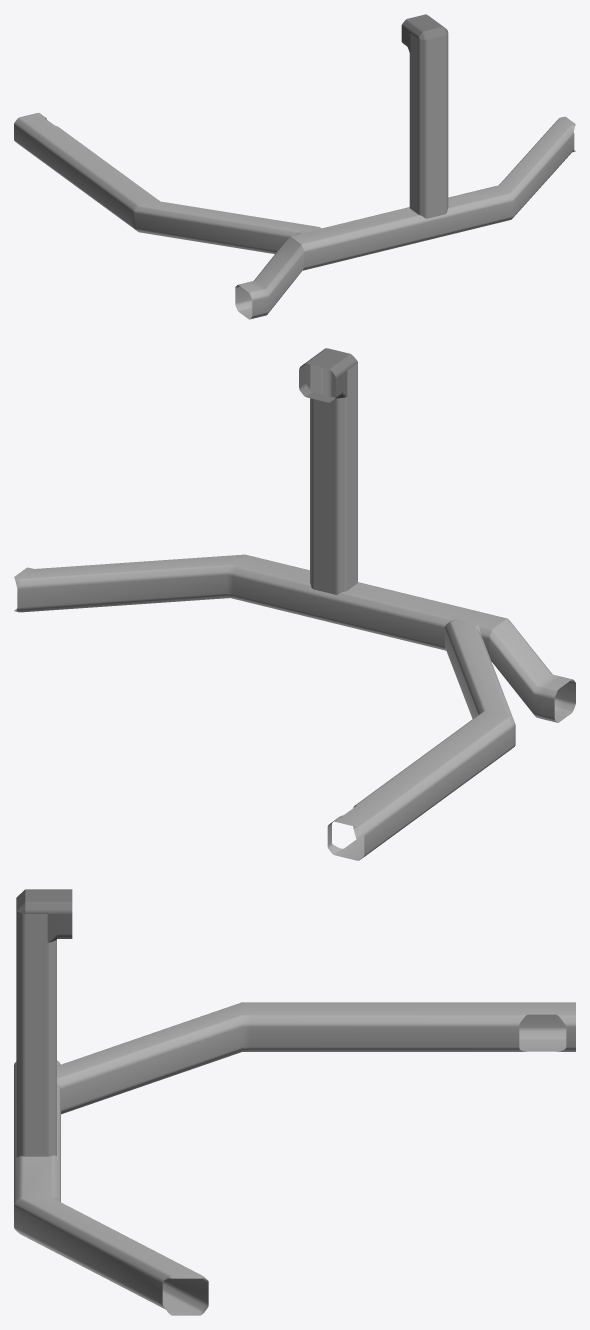
File: tunul_small.fbx
The picture shows the model from 3 angles, top to bottom: view 1: azimuth 30°, elevation 25°; view 2: azimuth 150°, elevation 25°; view 3: azimuth 270°, elevation 25°; orthographic projection. The views are drawn at different scales.
Visible parts, largest first — view 1: tunul.011, tunul.012, tunul.002, tunul.006; view 2: tunul.012, tunul.011, tunul.002, tunul.006; view 3: tunul.011, tunul.012, tunul.002.
Boxes of the visible parts, x1,y1,x2,y2 form: tunul.011: [14, 112, 321, 253]; tunul.012: [290, 116, 575, 270]; tunul.002: [401, 14, 448, 218]; tunul.006: [235, 236, 304, 319]; tunul.012: [14, 554, 506, 654]; tunul.011: [327, 619, 515, 860]; tunul.002: [299, 348, 357, 594]; tunul.006: [489, 618, 575, 722]; tunul.011: [57, 1002, 575, 1114]; tunul.012: [14, 1060, 208, 1315]; tunul.002: [16, 889, 72, 1157].
Size of the model in its own units: 1852 by 1041 by 1570.
Materials: 5 (4 with a texture image).
